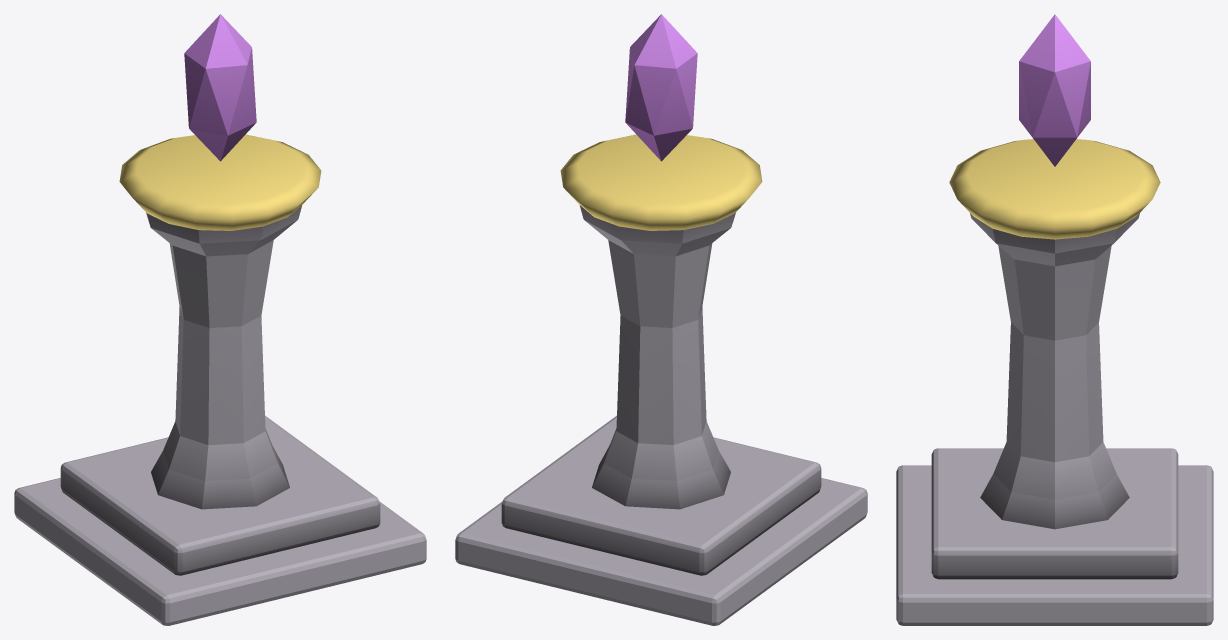
The model's file is shrine.fbx.
The picture shows the model from 3 angles, left to right: view 1: azimuth 30°, elevation 25°; view 2: azimuth 150°, elevation 25°; view 3: azimuth 270°, elevation 25°; orthographic projection. The views are drawn at different scales.
Visible parts, largest first — view 1: Column, Step.001, Step, Bowl, Crystal; view 2: Column, Step.001, Step, Bowl, Crystal; view 3: Column, Step.001, Step, Bowl, Crystal.
Part boxes in pixels (<box>): Column: <box>146,205,302,509</box>; Step.001: <box>60,415,380,575</box>; Step: <box>14,478,426,625</box>; Bowl: <box>119,134,321,230</box>; Crystal: <box>184,14,256,161</box>; Column: <box>579,205,735,509</box>; Step.001: <box>501,415,821,575</box>; Step: <box>455,478,867,625</box>; Bowl: <box>560,134,762,230</box>; Crystal: <box>625,14,697,161</box>; Column: <box>970,213,1139,529</box>; Step.001: <box>931,448,1178,579</box>; Step: <box>896,465,1213,625</box>; Bowl: <box>949,139,1160,239</box>; Crystal: <box>1019,14,1090,166</box>.
Bounding box in the file's own units: 0.72 × 1.37 × 0.72.
